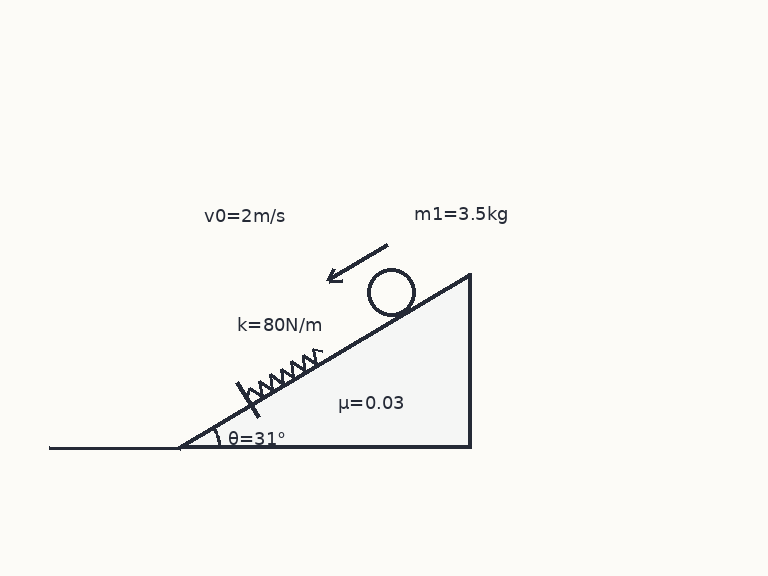ball: (366, 266, 418, 318)
ramp: (177, 272, 471, 450)
spring: (245, 347, 324, 399)
